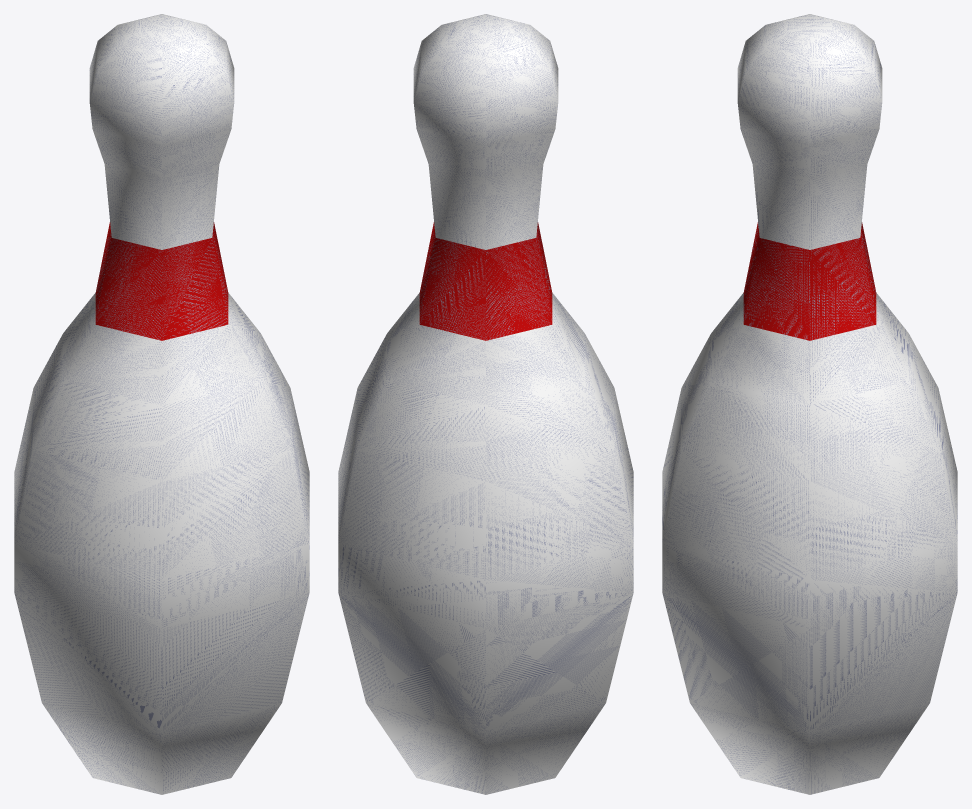
The picture shows the model from 3 angles, left to right: view 1: azimuth 30°, elevation 25°; view 2: azimuth 150°, elevation 25°; view 3: azimuth 270°, elevation 25°; orthographic projection.
Parts seen in each view (by area): view 1: Bowling_ball_and_pin (×3); view 2: Bowling_ball_and_pin (×3); view 3: Bowling_ball_and_pin (×3).
Boxes of the visible parts, <box> form: Bowling_ball_and_pin (×3): <box>14,14,309,794</box>; Bowling_ball_and_pin (×3): <box>338,14,633,794</box>; Bowling_ball_and_pin (×3): <box>662,14,957,794</box>.
Size of the model in its own units: 6.92 by 6 by 16.49.
